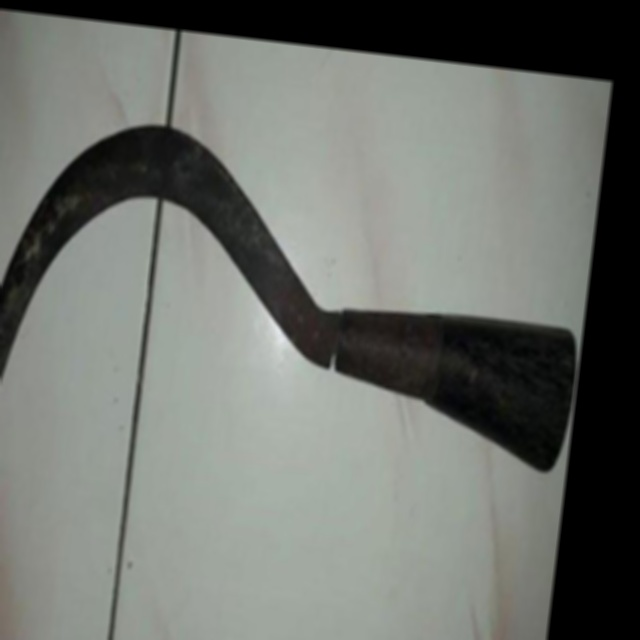Sharp-Object: (0, 108, 601, 609)
